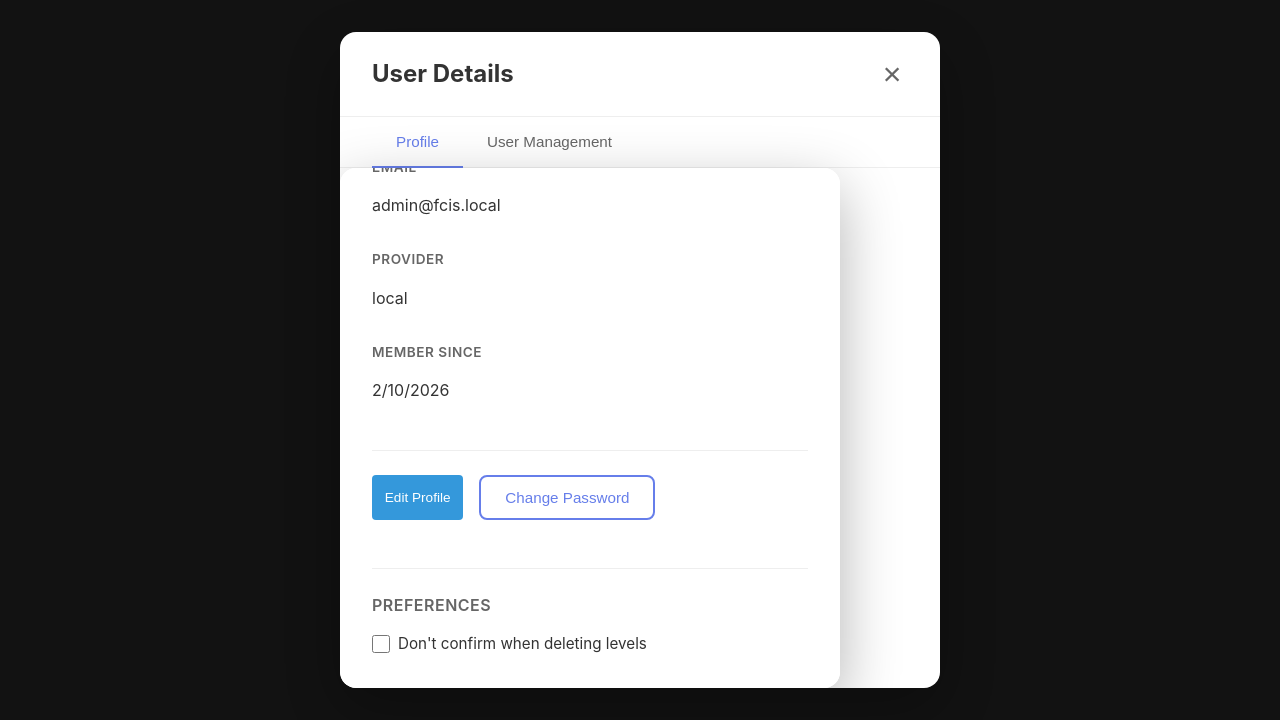
UserDetailsModal › Profile Tab › should switch to edit mode when edit button is clicked
This screenshot has width=1280, height=720.
(page scrolled)
Click the button "Edit Profile" at {"x": 418, "y": 498}, box [372,475,463,520]
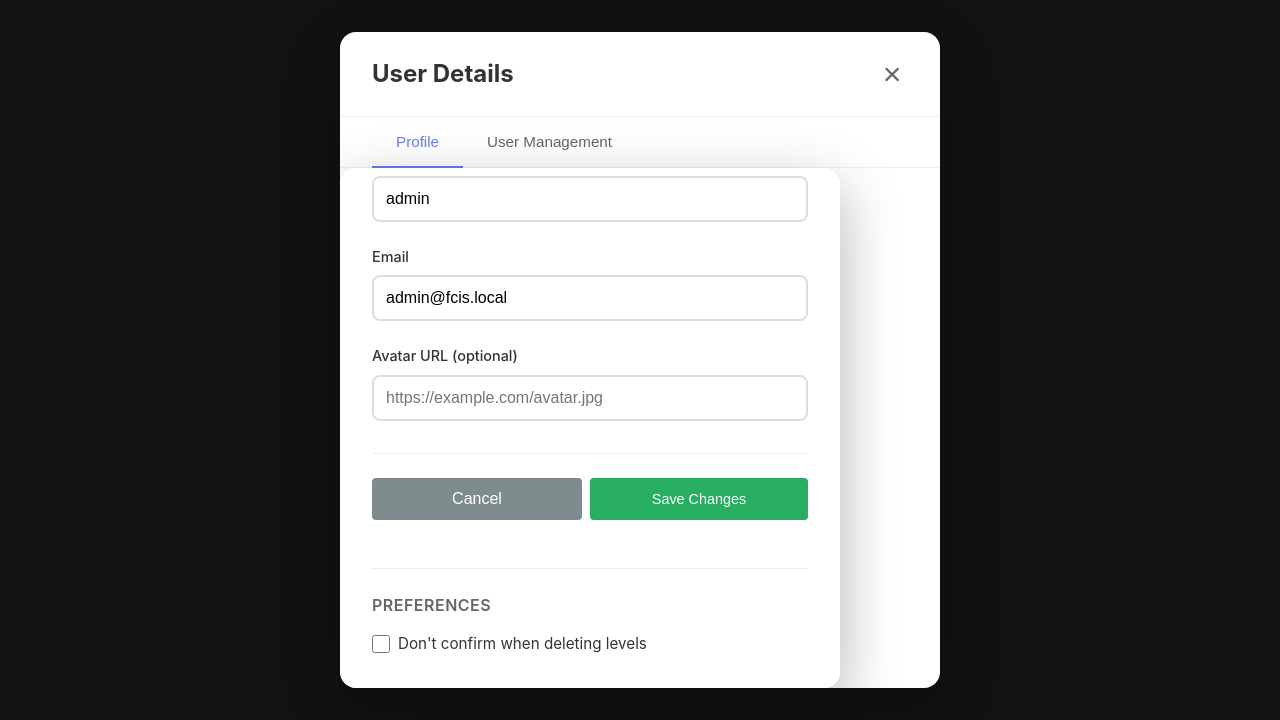
Now the field labelled "Username" is shown, box [372,176,808,222]
Now the field labelled "Email" is shown, box [372,275,808,321]
